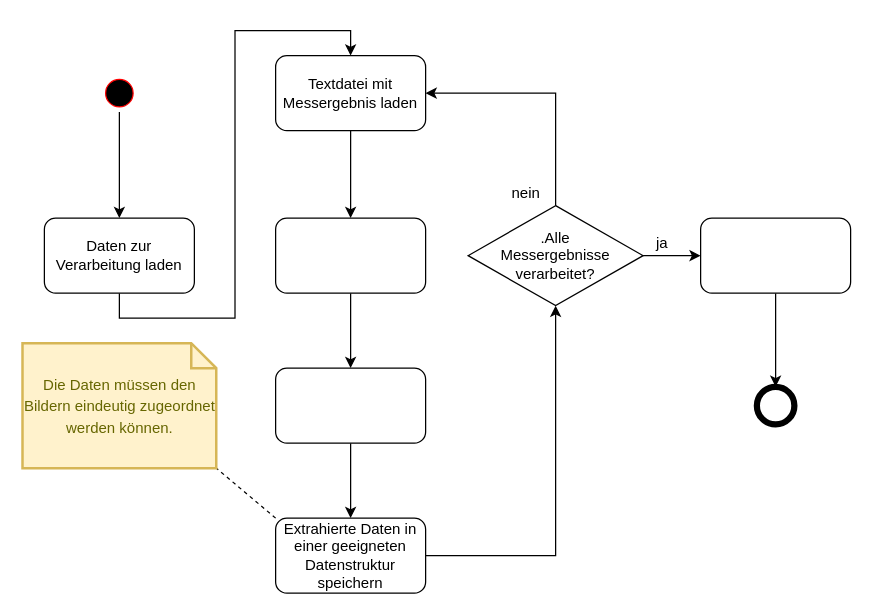
This 873x615 diagram has some shape labels left out. The centre of each missing label's shape, as x and y in pixels:
"Daten persistieren" belongs at [775,255].
"Messdaten der Anordnungsklassen extrahieren" belongs at [350,255].
"Messdaten der Größenklassen extrahieren" belongs at [350,405].
